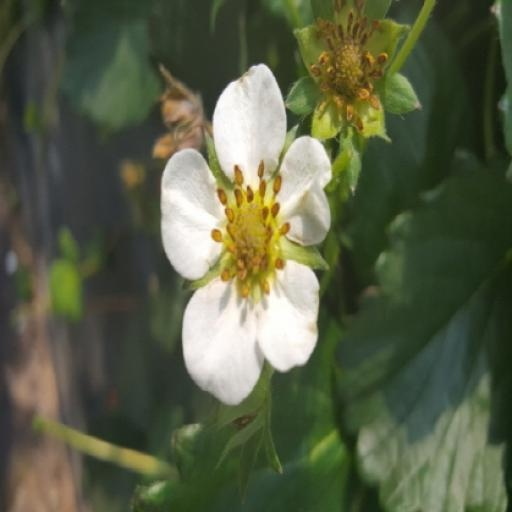Blossom Blight: (217, 156, 302, 304), (119, 0, 206, 136)
